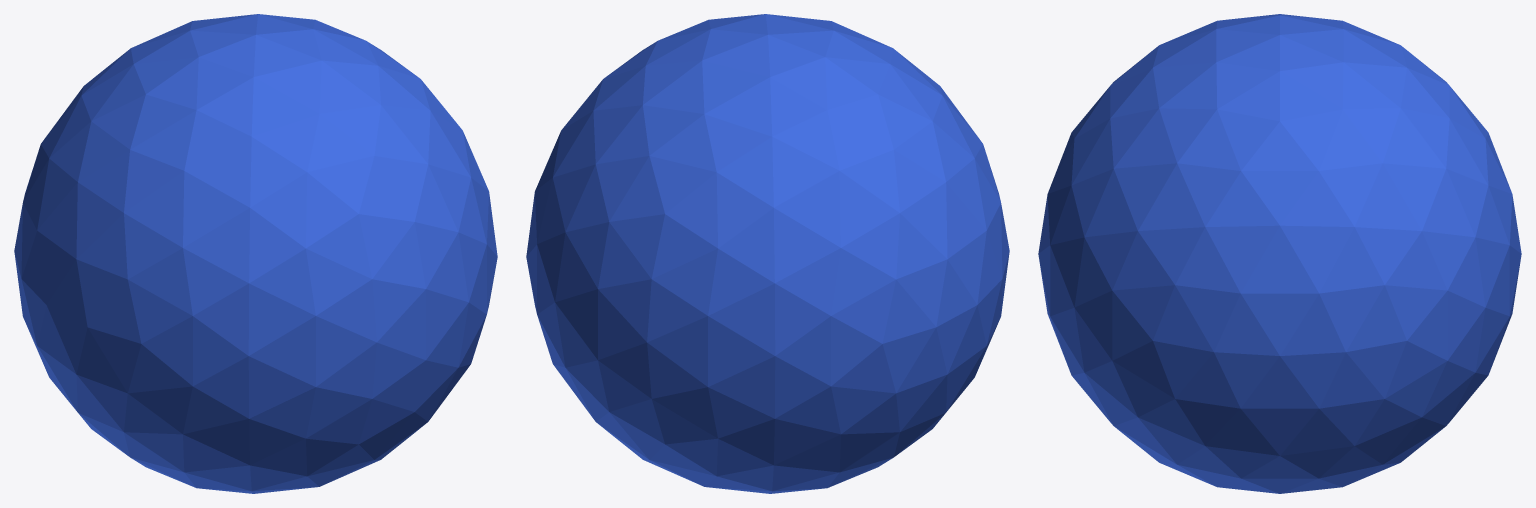
Rendered from gem_round_sapphire.glb.
3 views of the same model, side by side, from view 1: azimuth 30°, elevation 25°; view 2: azimuth 150°, elevation 25°; view 3: azimuth 270°, elevation 25° (orthographic).
Parts seen in each view (by area): view 1: world; view 2: world; view 3: world.
Boxes of the visible parts, box(x1,y1,x2,y2) form: world: box(14, 14, 497, 493); world: box(526, 14, 1009, 493); world: box(1038, 14, 1521, 493).
Bounding box in the file's own units: 0.012 × 0.012 × 0.012.
